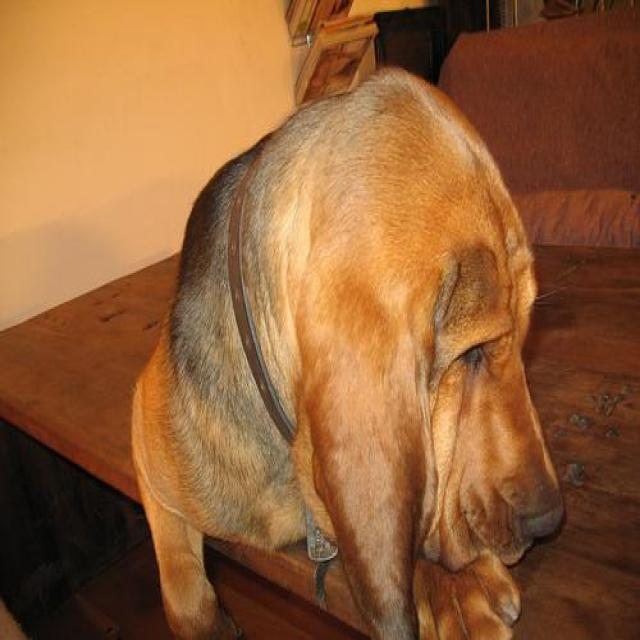bloodhound: (129, 67, 566, 638)
